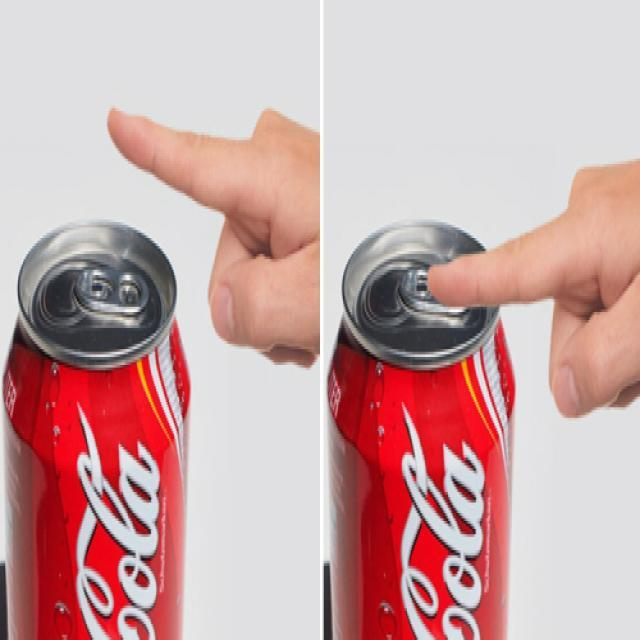coca-cola: (325, 216, 517, 640), (0, 230, 192, 640)
